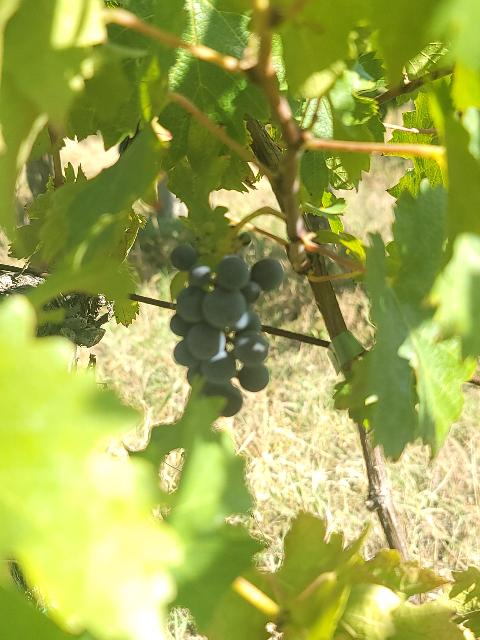grapes: (170, 244, 284, 416)
